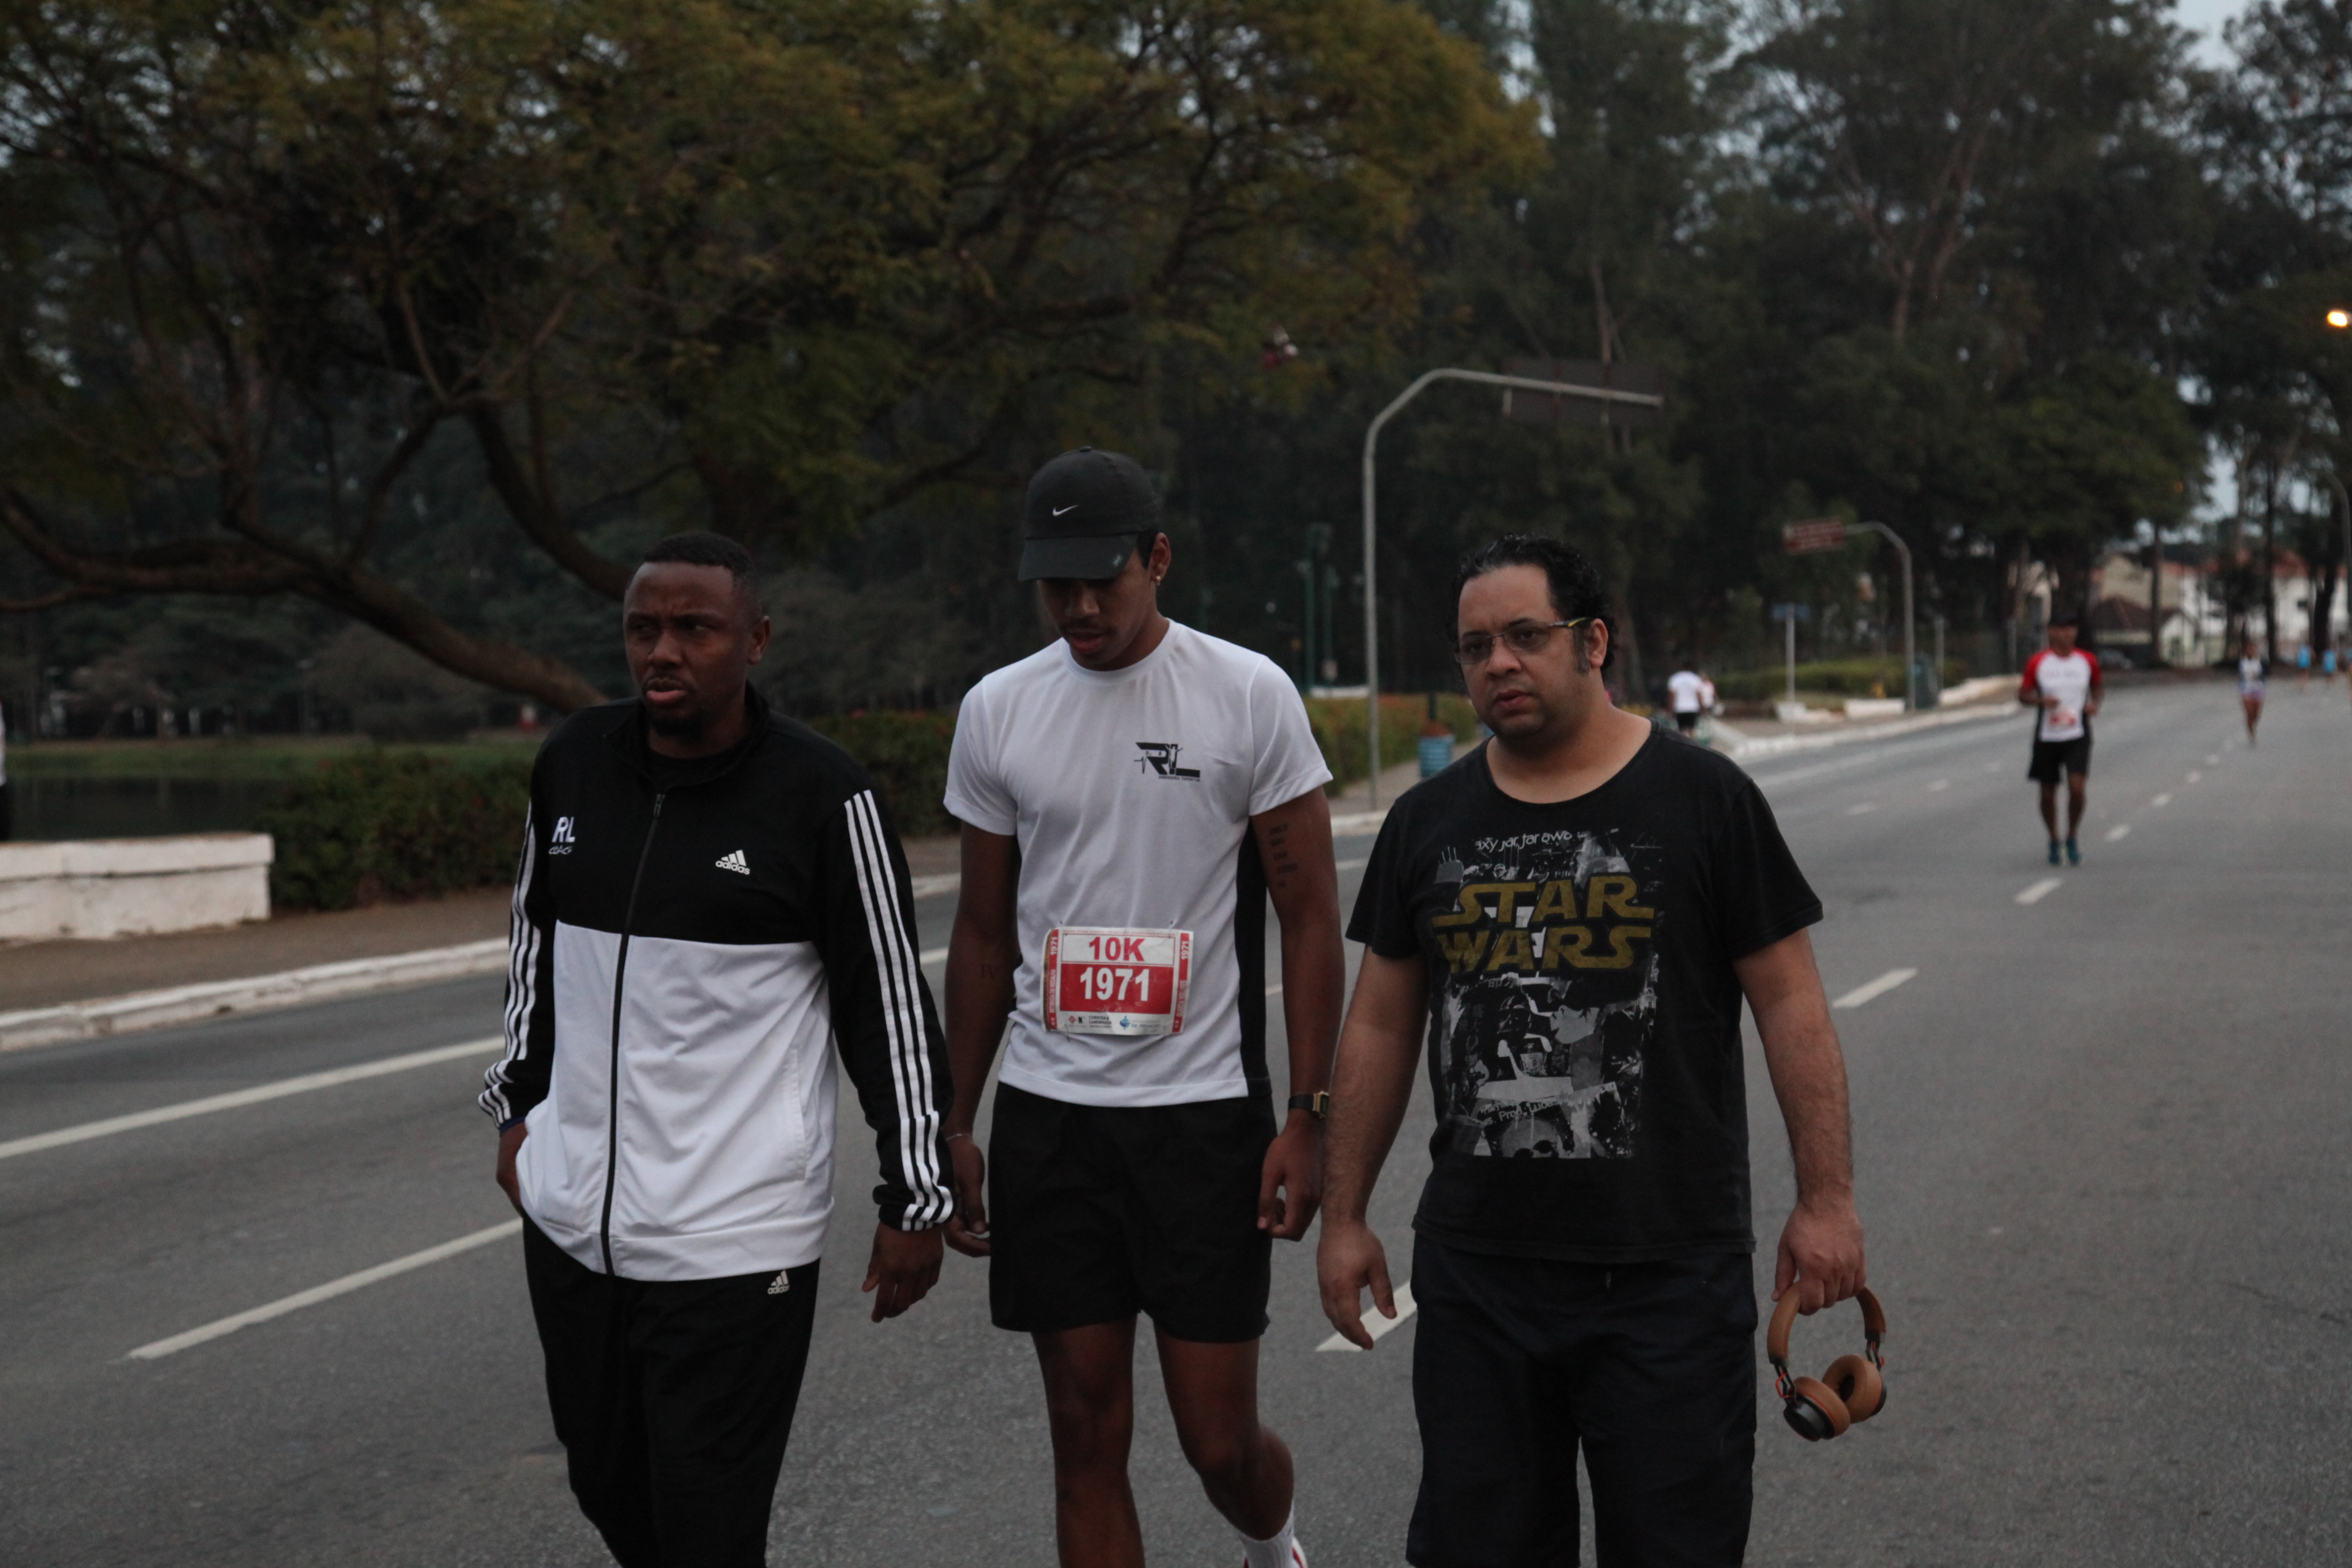bibtag: (1031, 915, 1199, 1055)
